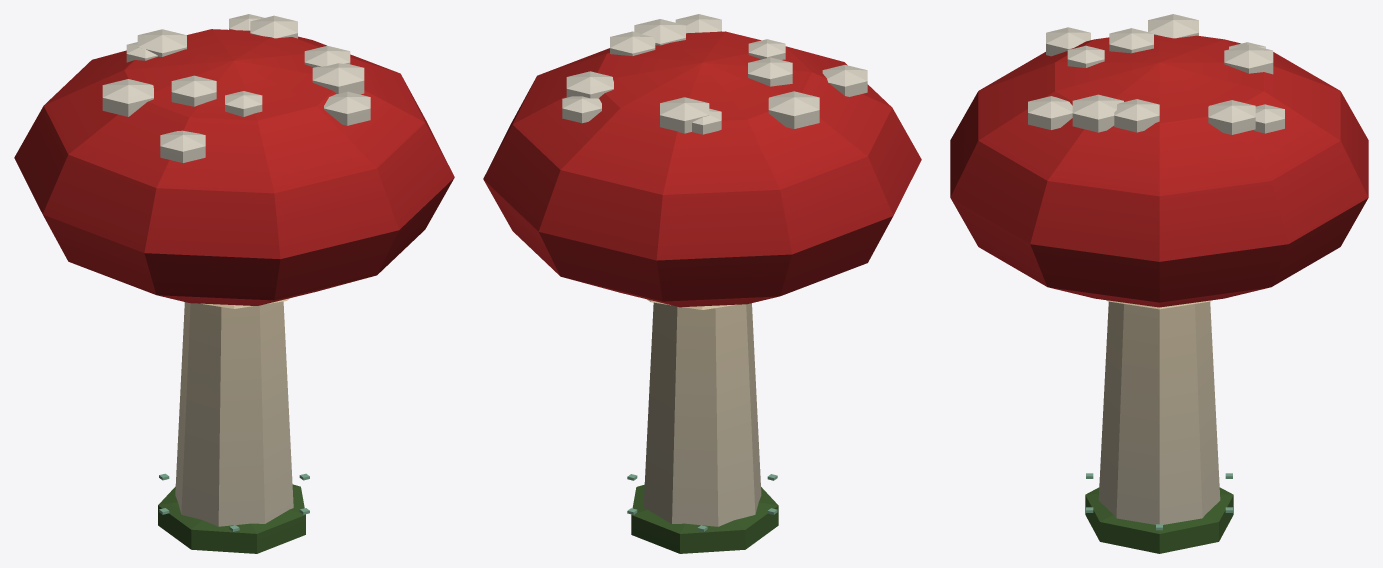
File: toadstool_giant.glb
3 views of the same model, side by side, from view 1: azimuth 30°, elevation 25°; view 2: azimuth 150°, elevation 25°; view 3: azimuth 270°, elevation 25° (orthographic).
Parts seen in each view (by area): view 1: toadstool_giant; view 2: toadstool_giant; view 3: toadstool_giant.
Boxes of the visible parts, box(x1,y1,x2,y2) form: toadstool_giant: box(14, 14, 454, 553); toadstool_giant: box(483, 14, 921, 553); toadstool_giant: box(950, 14, 1368, 553).
Bounding box in the file's own units: 3 × 3.55 × 2.85.
